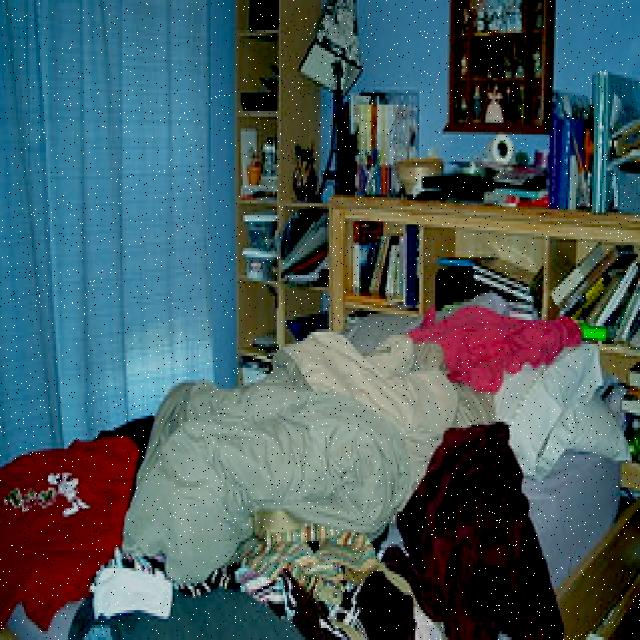bed: (6, 296, 630, 640)
